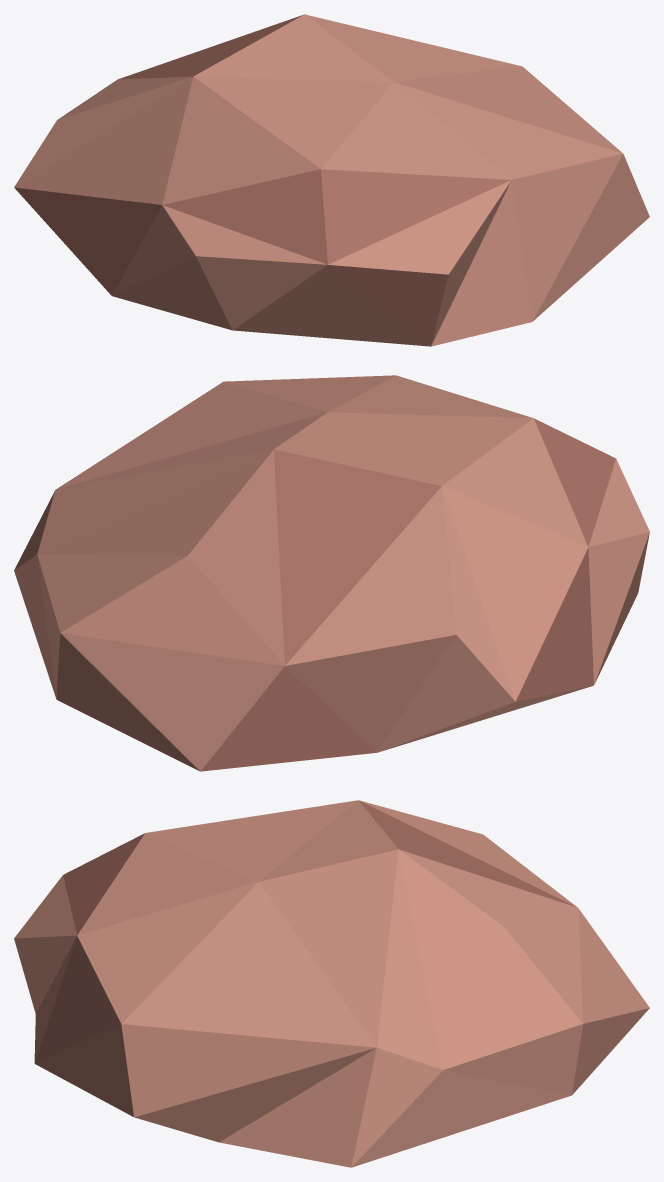
File: hall_2.glb
3 renders of one model, top to bottom at view 1: azimuth 30°, elevation 25°; view 2: azimuth 150°, elevation 25°; view 3: azimuth 270°, elevation 25°, orthographic. The views are drawn at different scales.
Visible parts, largest first — view 1: hall_2; view 2: hall_2; view 3: hall_2.
Part boxes in pixels (x1=…): hall_2: x1=14, y1=14, x2=649, y2=346; hall_2: x1=14, y1=375, x2=649, y2=771; hall_2: x1=14, y1=800, x2=649, y2=1167.
Bounding box in the file's own units: 2.68 × 0.9498 × 2.85.
